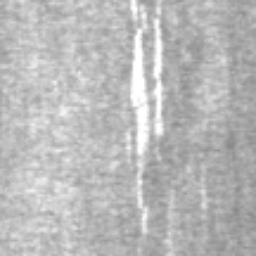White rust: (129, 0, 166, 235), (156, 0, 163, 15)
